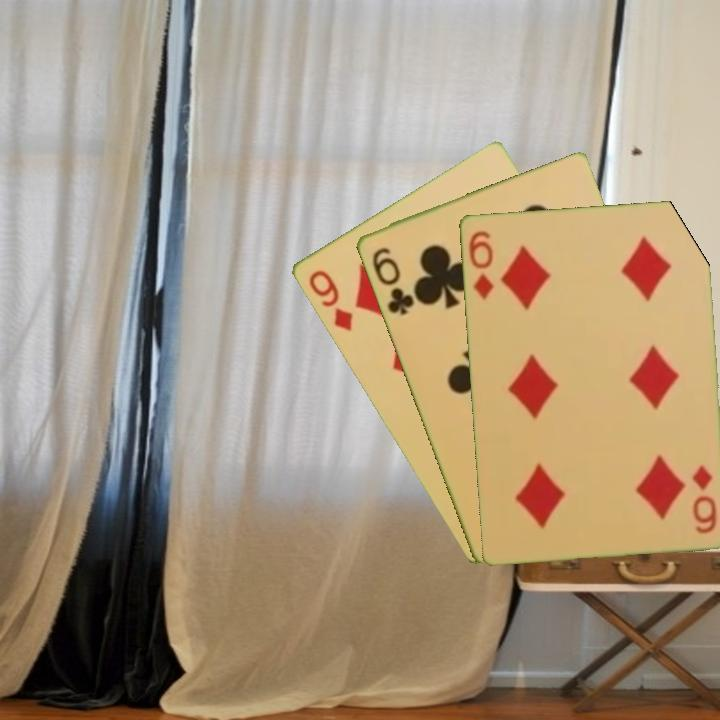6c: (368, 243, 417, 318)
6d: (465, 227, 496, 302), (688, 462, 719, 536)
9d: (304, 266, 355, 334)
